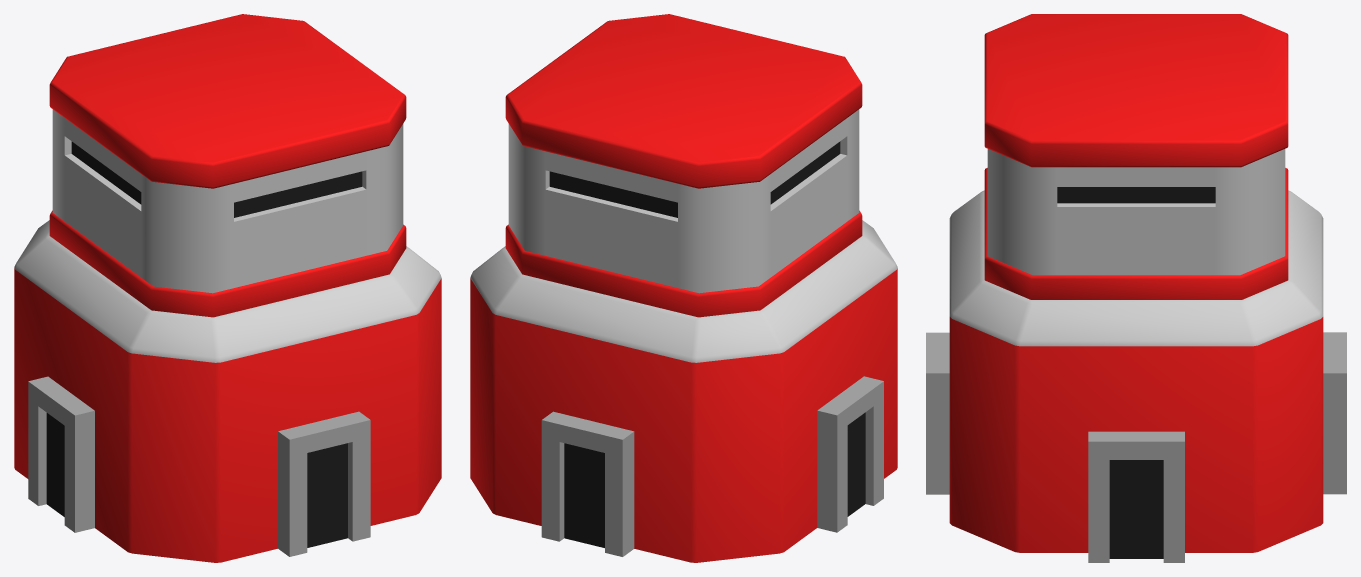
Rendered from Tower.fbx.
The picture shows the model from 3 angles, left to right: view 1: azimuth 30°, elevation 25°; view 2: azimuth 150°, elevation 25°; view 3: azimuth 270°, elevation 25°; orthographic projection. The views are drawn at different scales.
Visible parts, largest first — view 1: TowerFloor01, TowerFloor02; view 2: TowerFloor01, TowerFloor02; view 3: TowerFloor01, TowerFloor02.
Part boxes in pixels (x1,y1,x2,y2): TowerFloor01: (14,210,441,562); TowerFloor02: (49,14,406,293); TowerFloor01: (470,210,897,562); TowerFloor02: (505,14,862,293); TowerFloor01: (926,168,1346,562); TowerFloor02: (984,14,1288,275).
Size of the model in its own units: 219 by 228 by 219.
